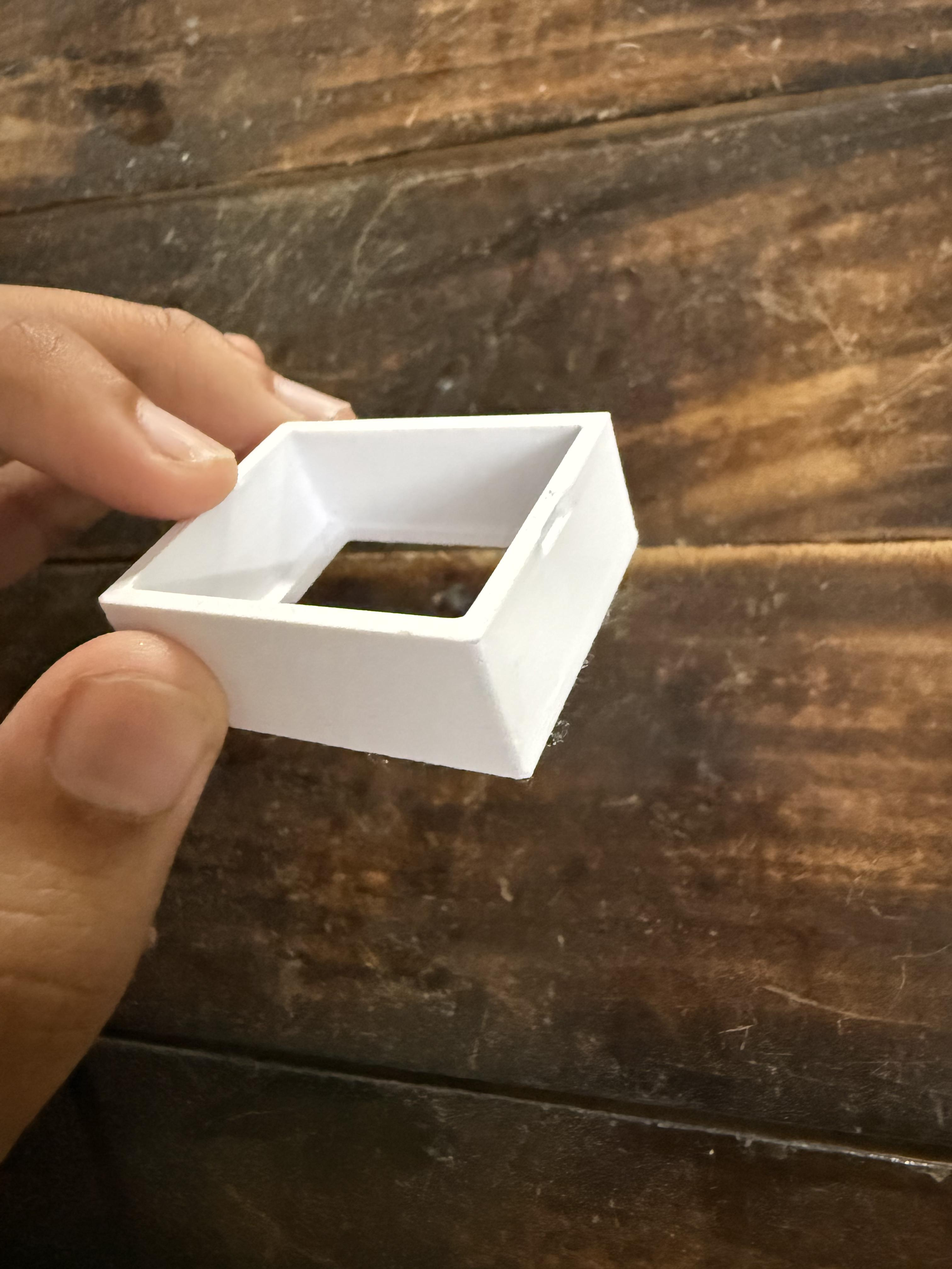enclosure: (97, 411, 639, 781)
